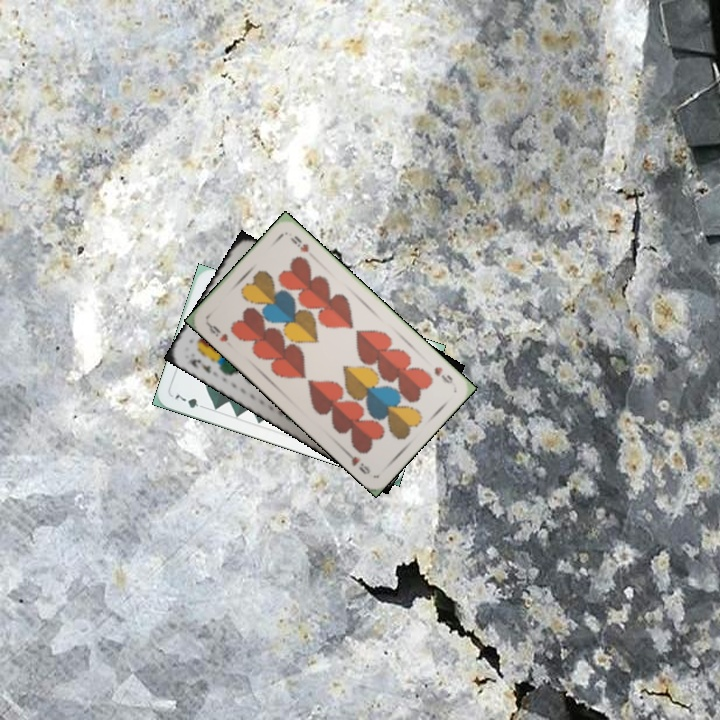EK: (186, 355, 213, 376)
G7: (170, 390, 209, 412)
H9: (203, 318, 231, 344), (430, 363, 455, 386)
